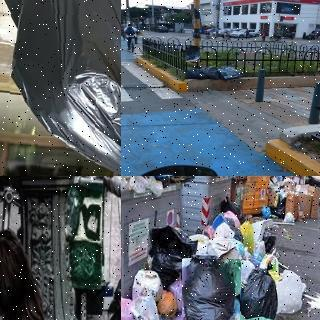Garbage: (0, 0, 121, 176), (181, 258, 240, 320), (145, 222, 207, 280), (241, 266, 279, 319), (208, 234, 248, 279), (275, 267, 308, 317), (129, 264, 165, 302), (228, 307, 303, 320), (131, 297, 167, 320), (215, 218, 242, 239), (240, 220, 256, 254), (108, 275, 121, 314), (121, 292, 138, 320), (99, 303, 121, 320), (218, 67, 245, 80), (184, 67, 207, 80), (200, 66, 221, 80), (186, 47, 200, 63)
